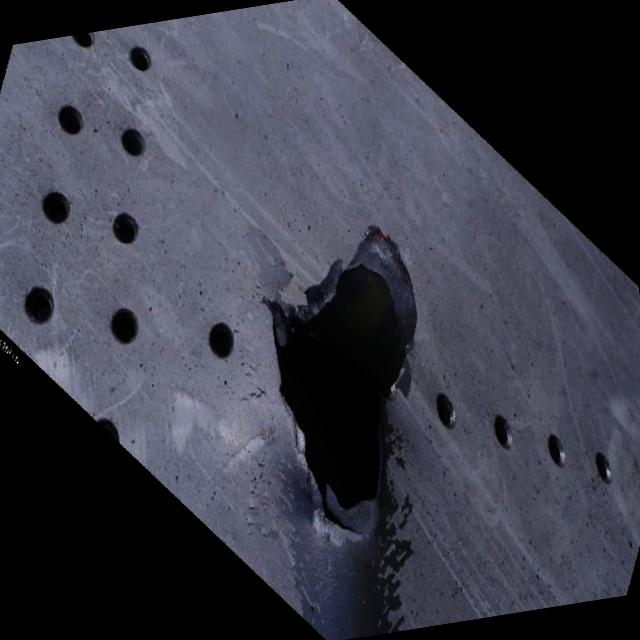crack: (248, 217, 457, 553)
